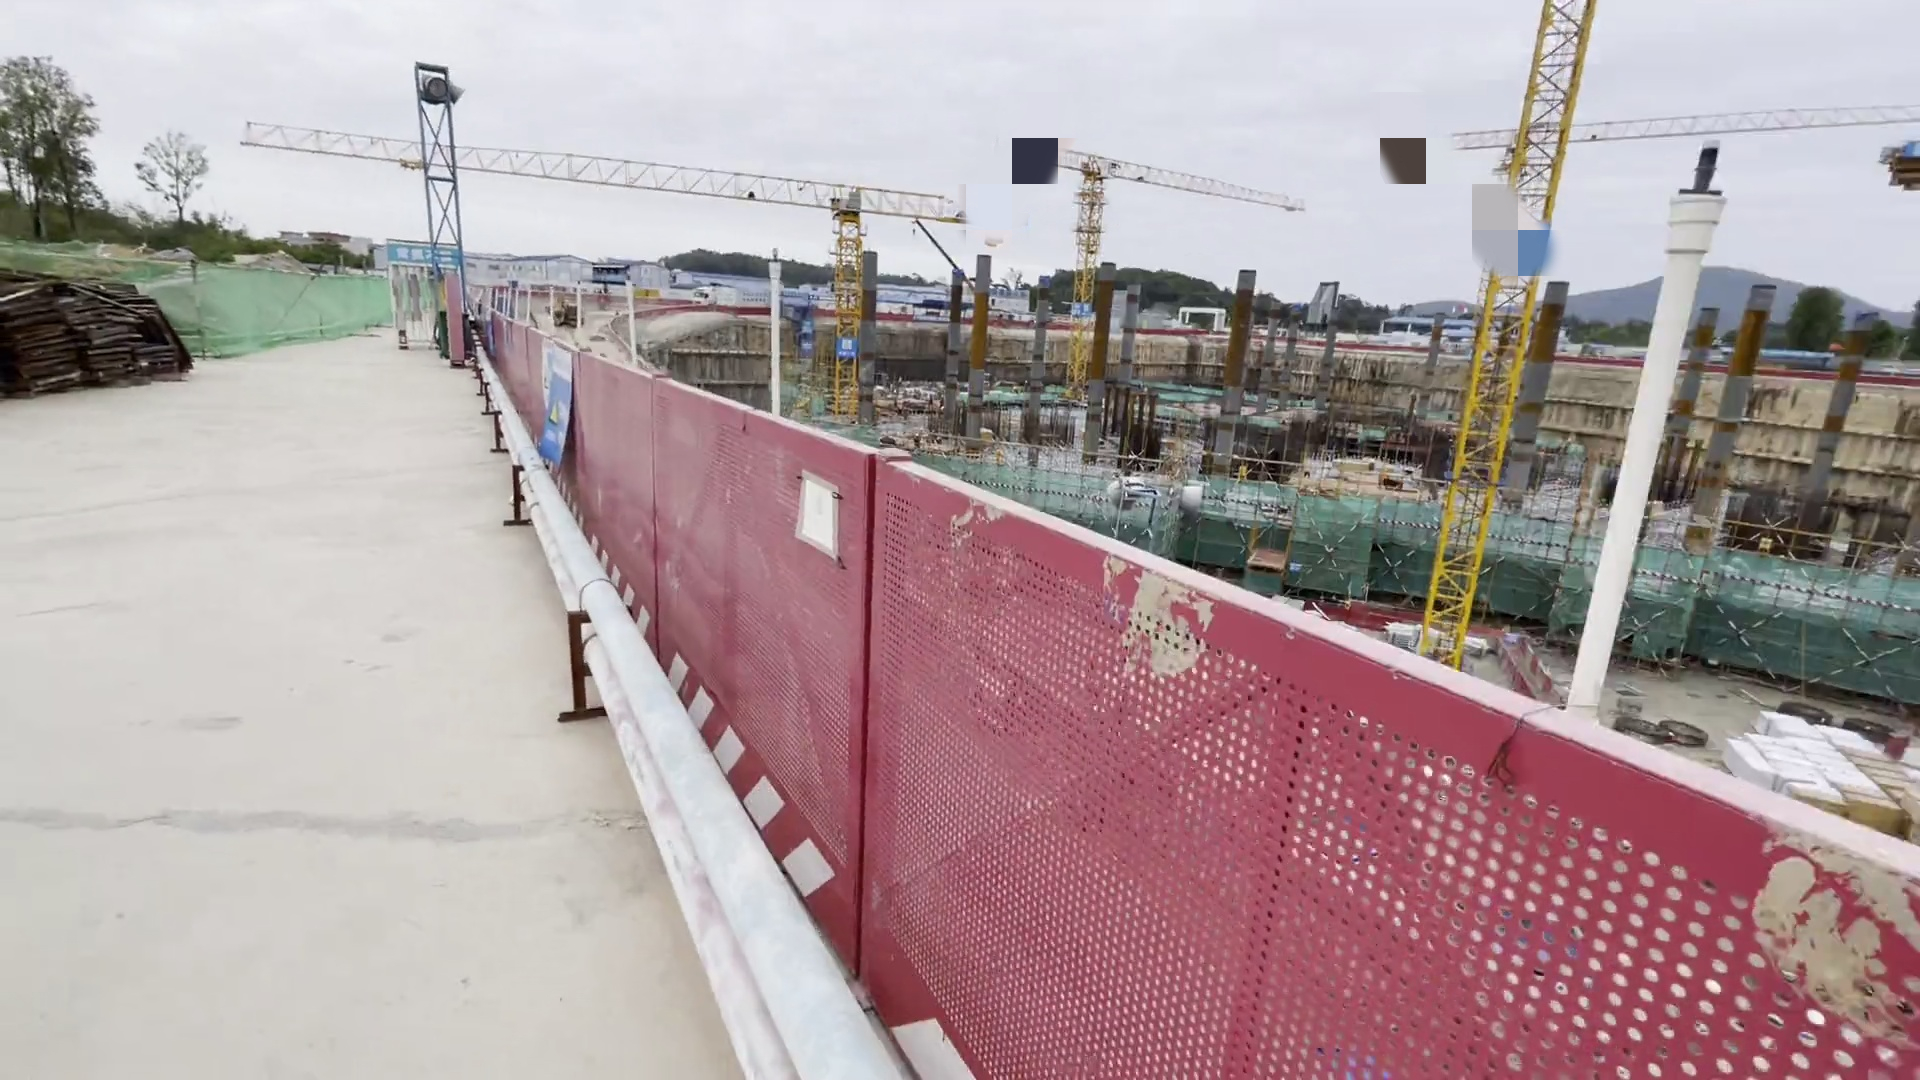board: (1759, 709, 1920, 833)
fence: (472, 299, 1920, 1080), (1332, 591, 1575, 703)
slogan: (535, 338, 579, 479), (376, 236, 473, 276), (803, 316, 818, 360), (837, 338, 856, 361)
